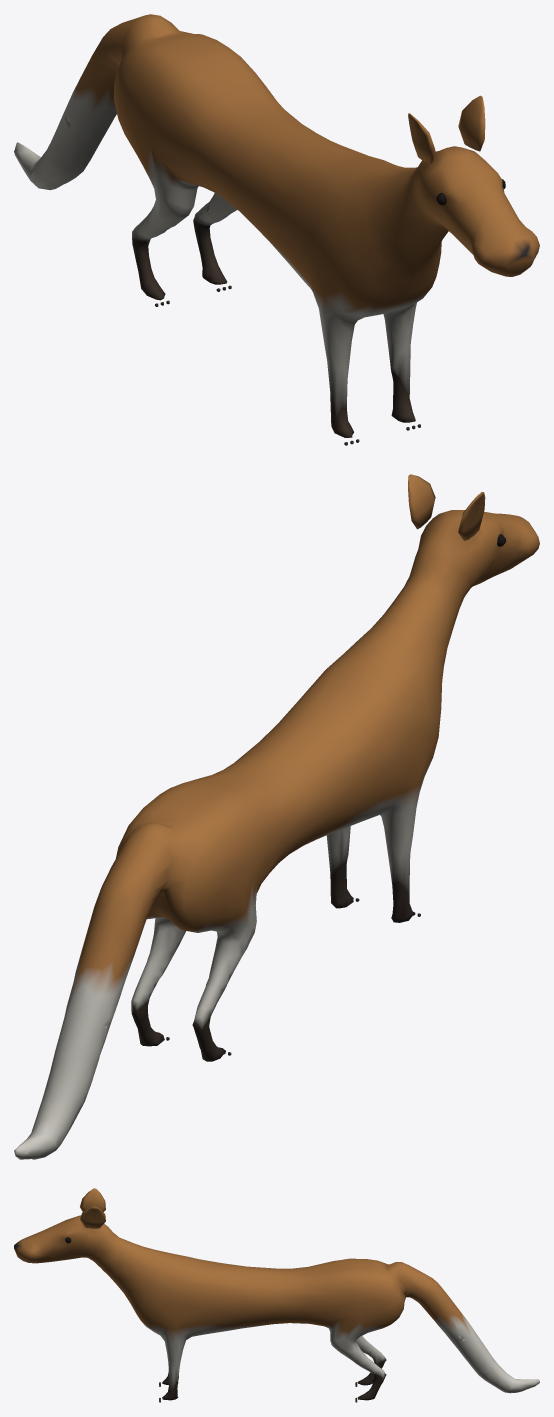
File: fuchs.glb
The picture shows the model from 3 angles, top to bottom: view 1: azimuth 30°, elevation 25°; view 2: azimuth 150°, elevation 25°; view 3: azimuth 270°, elevation 25°; orthographic projection. The views are drawn at different scales.
Visible parts, largest first — view 1: lack; view 2: lack; view 3: lack.
Part boxes in pixels (left/top/right/bottom): lack: left=14, top=14, right=539, bottom=445; lack: left=14, top=474, right=539, bottom=1159; lack: left=14, top=1188, right=539, bottom=1402.
Size of the model in its own units: 0.1868 by 0.6313 by 1.54.
